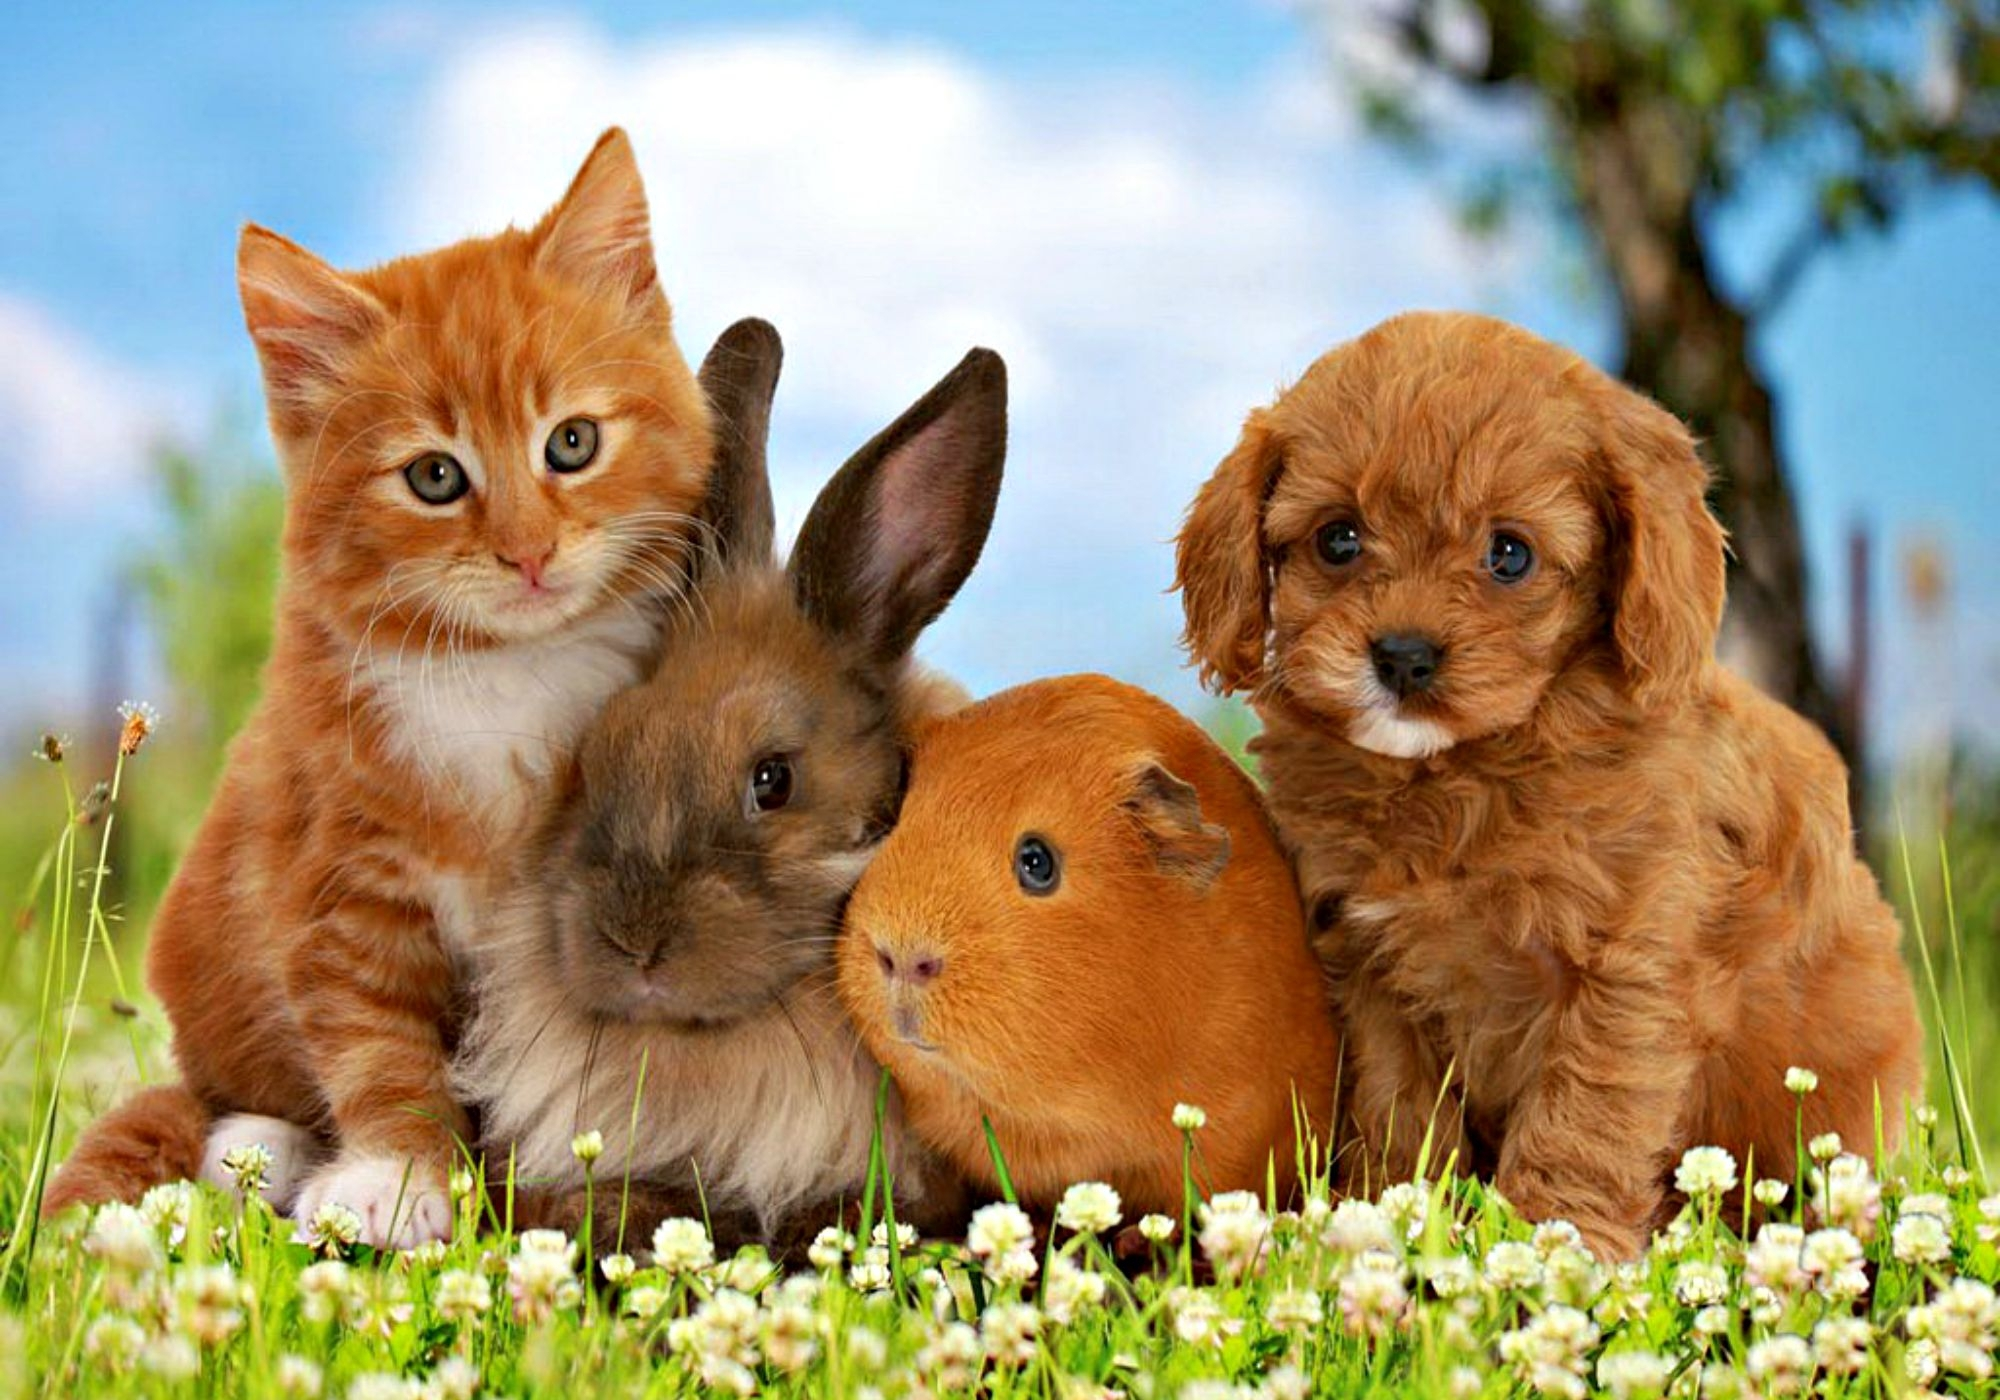cat: (205, 201, 695, 655)
dog: (1191, 321, 1903, 1234)
rabbit: (526, 531, 968, 1274)
